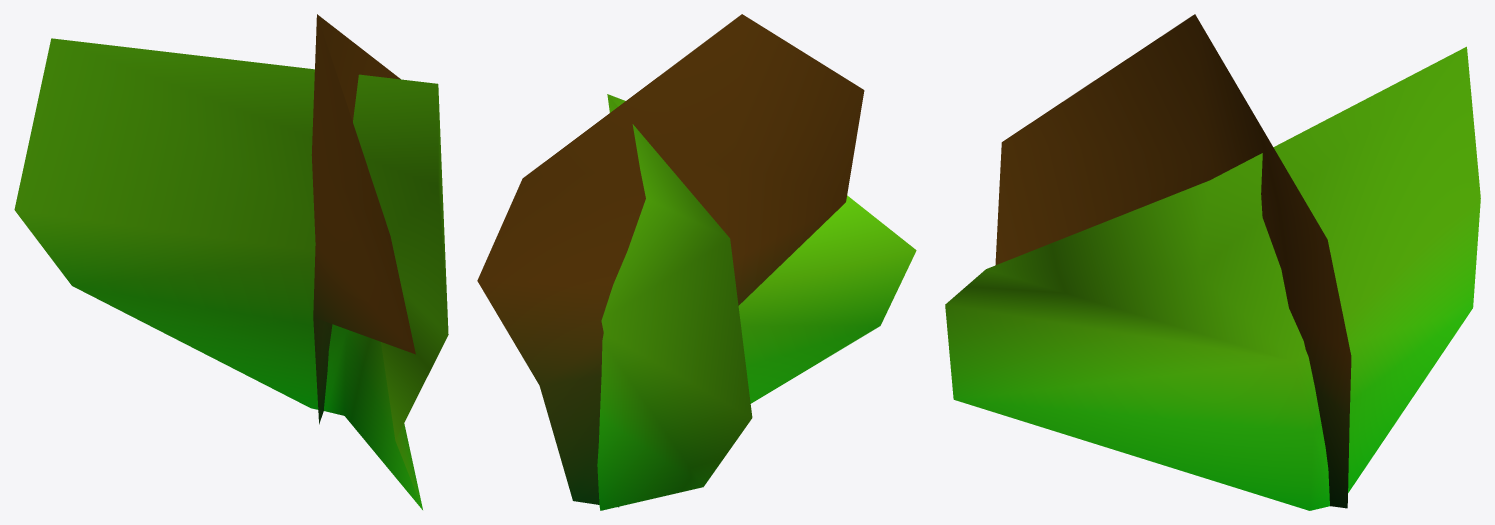
Rendered from Var1Hi22.fbx.
3 views of the same model, side by side, from view 1: azimuth 30°, elevation 25°; view 2: azimuth 150°, elevation 25°; view 3: azimuth 270°, elevation 25° (orthographic). The views are drawn at different scales.
Visible parts, largest first — view 1: bend1; view 2: bend1; view 3: bend1.
Part boxes in pixels (box(x1,y1,x2,y2)): bend1: box(14, 14, 448, 509); bend1: box(477, 14, 916, 510); bend1: box(945, 14, 1480, 510).
Size of the model in its own units: 1.04 by 1.35 by 1.42.
